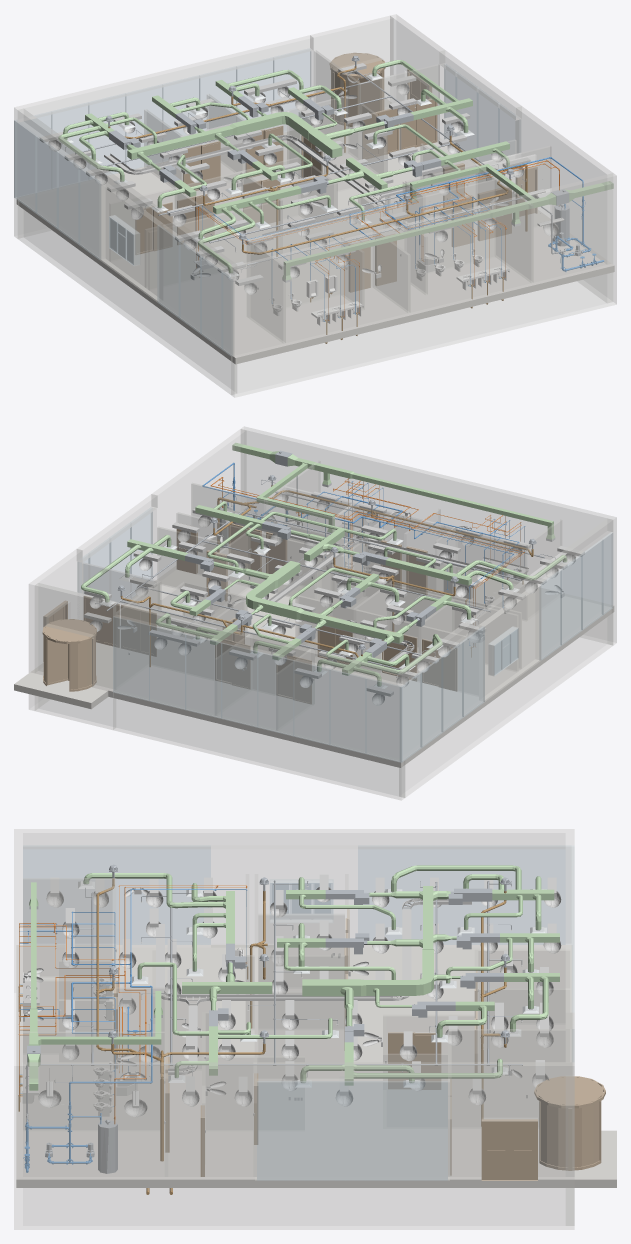
Rendered from mech-building.glb.
3 renders of one model, top to bottom at view 1: azimuth 30°, elevation 25°; view 2: azimuth 150°, elevation 25°; view 3: azimuth 270°, elevation 25°, orthographic. The views are drawn at different scales.
Parts seen in each view (by area): view 1: glass, door; view 2: glass, door; view 3: glass, door.
Boxes of the visible parts, x1,y1,x2,y2 form: glass: (14,14,616,397); door: (16,52,614,364); glass: (29,426,616,800); door: (14,443,614,767); glass: (14,829,574,1229); door: (16,864,616,1194).
Bounding box in the file's own units: 19.03 × 6.1 × 20.33.
2 materials, 2 textured.
